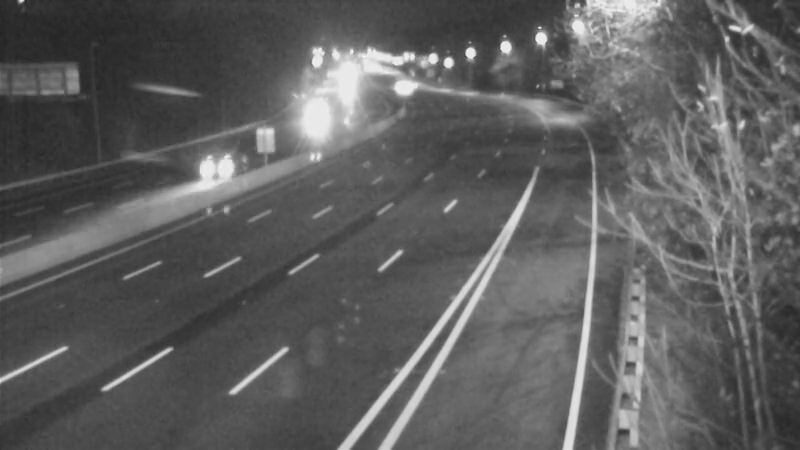vehicle: (178, 128, 258, 208), (374, 61, 424, 111), (291, 90, 341, 140)
